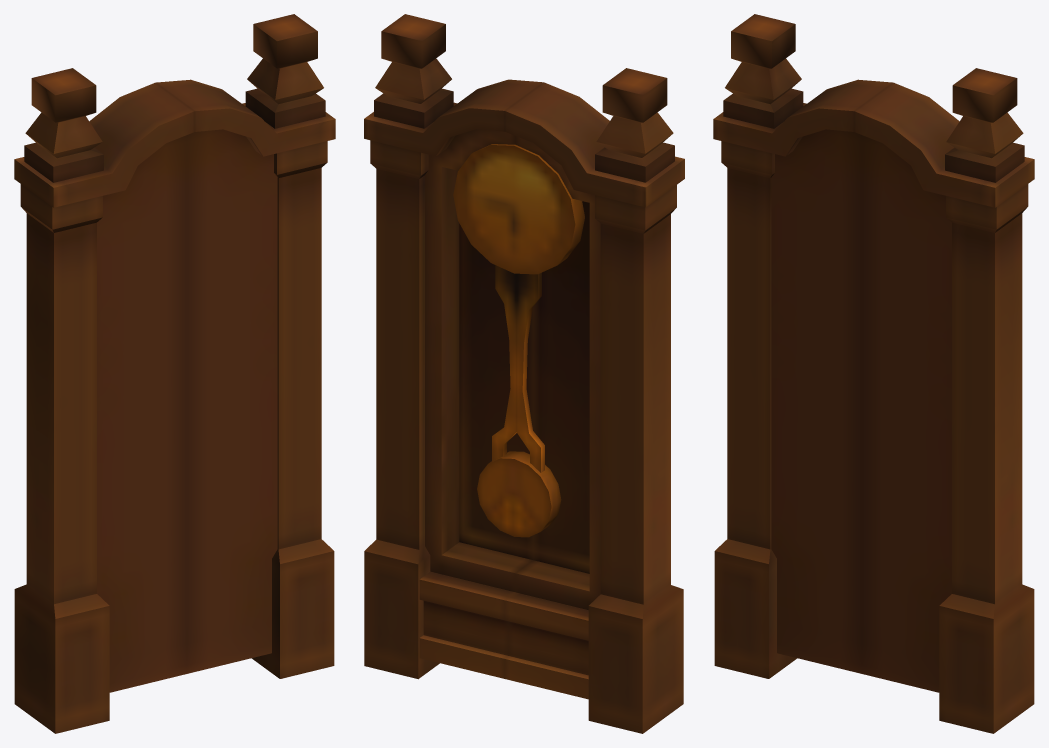
Rendered from Clock_01.gltf.
The picture shows the model from 3 angles, left to right: view 1: azimuth 30°, elevation 25°; view 2: azimuth 150°, elevation 25°; view 3: azimuth 330°, elevation 25°; orthographic projection.
Visible parts, largest first — view 1: Clock_01; view 2: Clock_01; view 3: Clock_01.
Boxes of the visible parts, bbox=[...] form: Clock_01: bbox=[14, 14, 335, 733]; Clock_01: bbox=[364, 14, 684, 733]; Clock_01: bbox=[713, 14, 1034, 733].
Size of the model in its own units: 19.65 by 42 by 4.93.
1 material, 1 textured.
